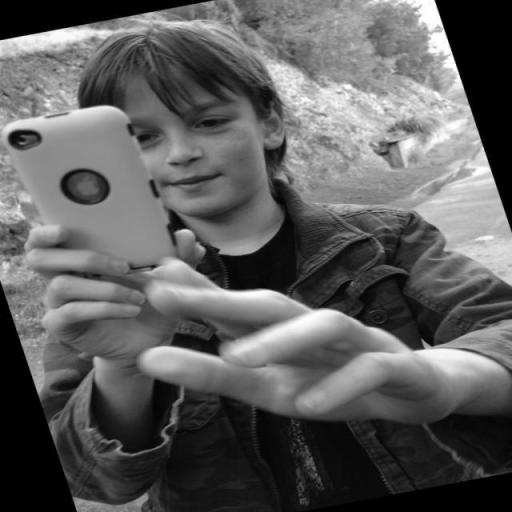phone: (3, 107, 182, 278)
